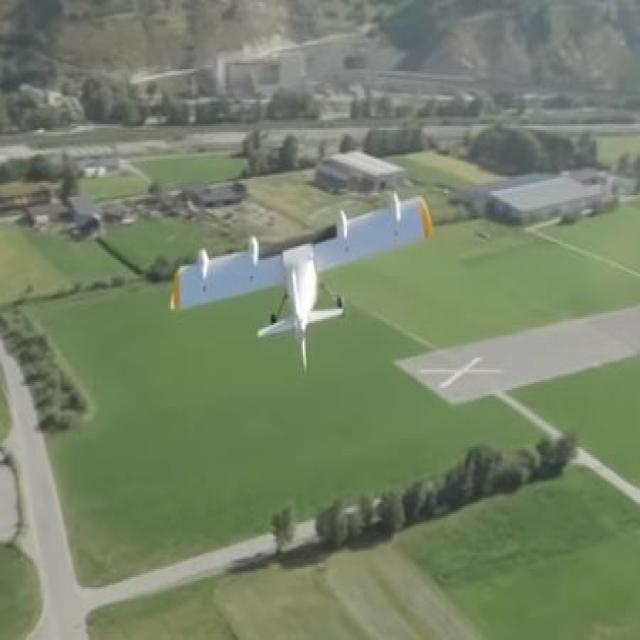iha: (170, 188, 432, 372)
